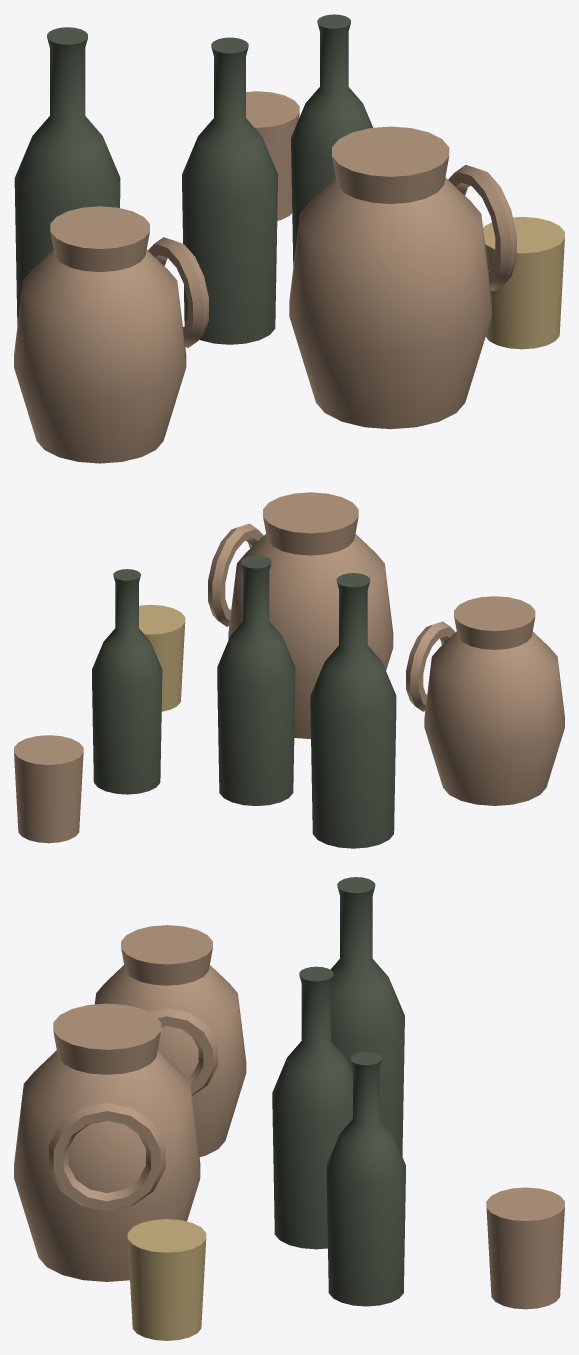
The model's file is bottles-jugs-v01.glb.
The picture shows the model from 3 angles, top to bottom: view 1: azimuth 30°, elevation 25°; view 2: azimuth 150°, elevation 25°; view 3: azimuth 270°, elevation 25°; orthographic projection. The views are drawn at different scales.
Visible parts, largest first — view 1: bottles-jugs; view 2: bottles-jugs; view 3: bottles-jugs.
Part boxes in pixels (x1,y1,x2,y2): bottles-jugs: (14,14,564,463); bottles-jugs: (14,492,564,848); bottles-jugs: (14,877,564,1340).
Size of the model in its own units: 1.14 by 0.627 by 1.11.
